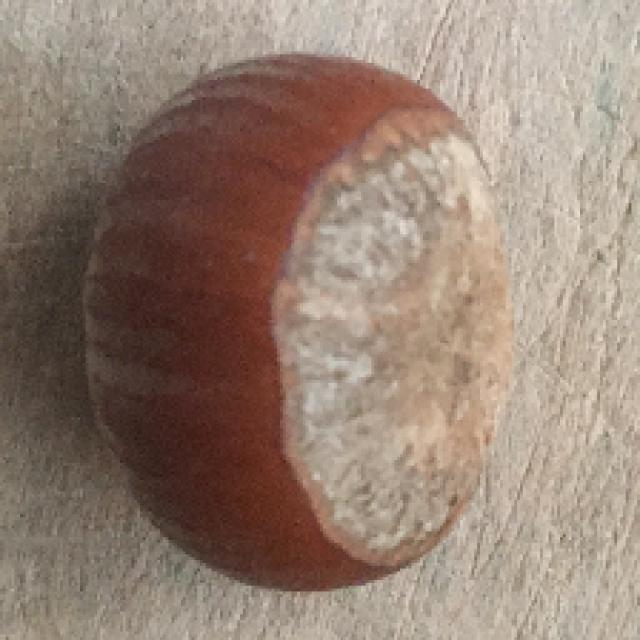qualityHazelnut: (83, 49, 507, 594)
